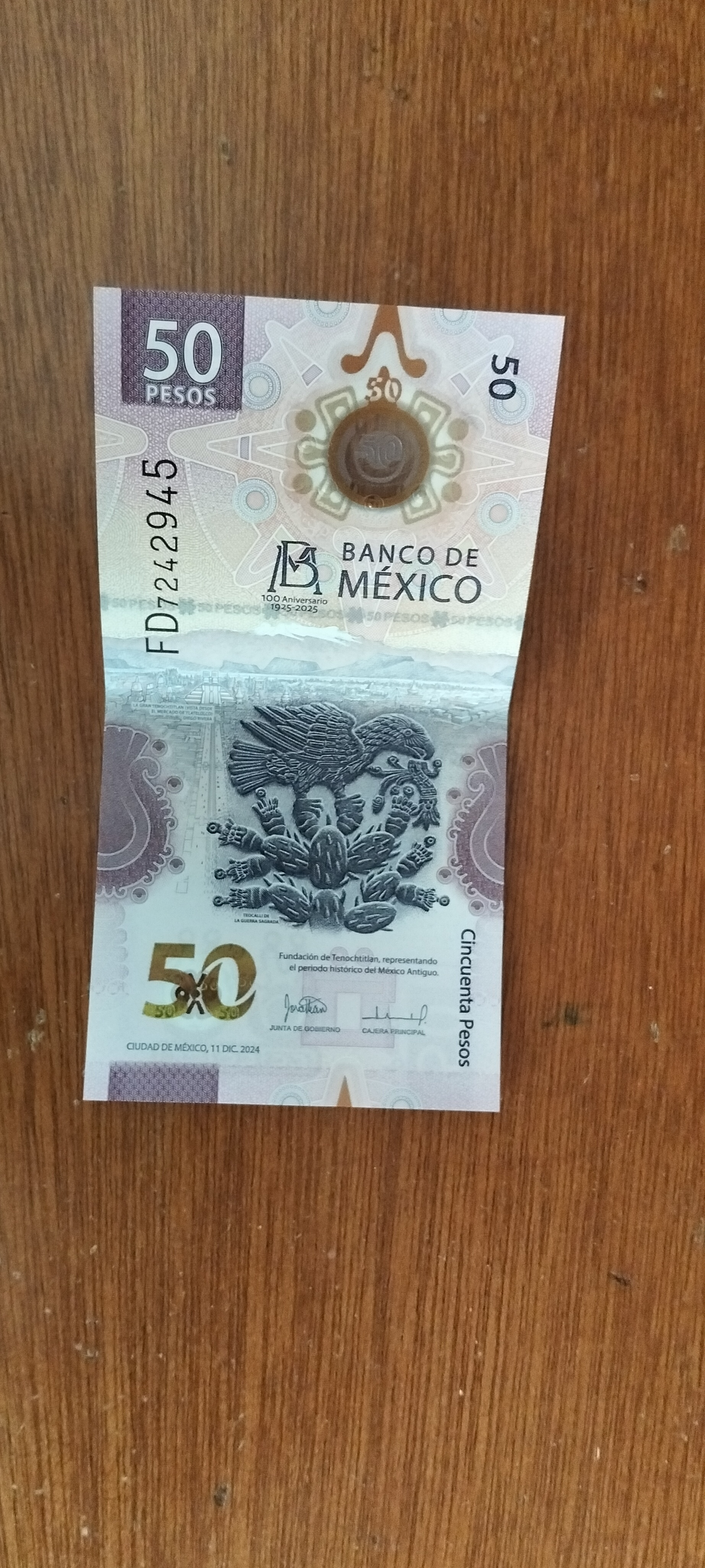billetes: (61, 263, 592, 1145)
